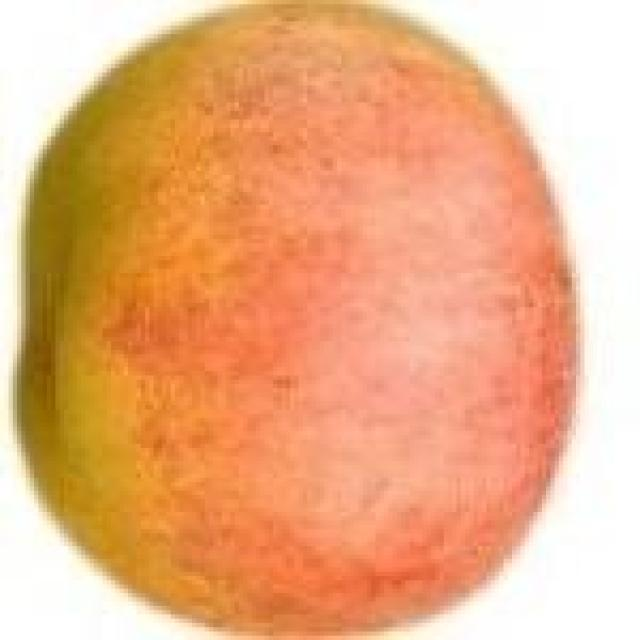Rotten Apple: (22, 0, 580, 640)
